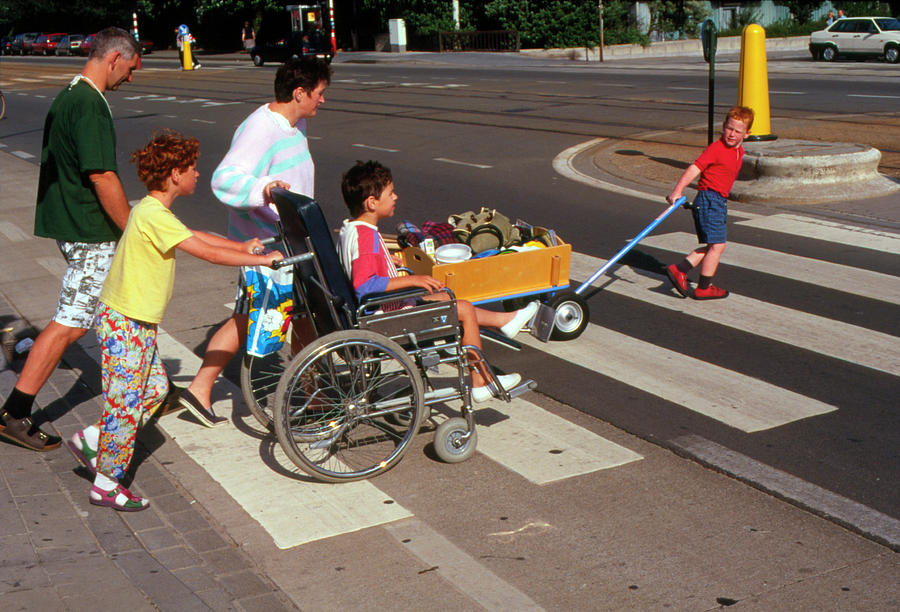person: (67, 130, 204, 509), (665, 105, 755, 300), (338, 157, 402, 320)
